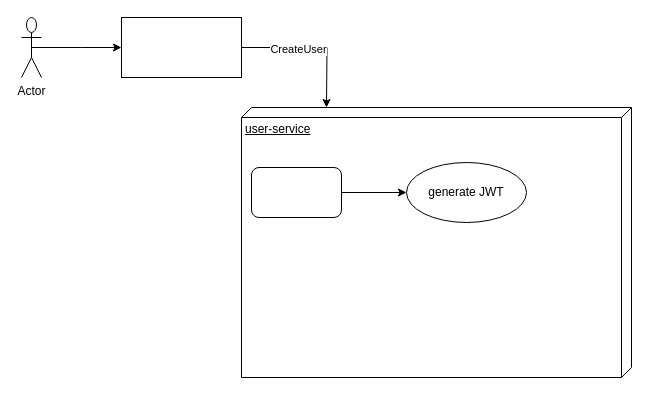
The diagram is 649 pixels wide and 395 high, and some of its shapes have lost their labels. Here are the shapes that lost their labels. From the top down, the centre of each, then its label:
pixel 181 47: API Gateway
pixel 296 192: controller
